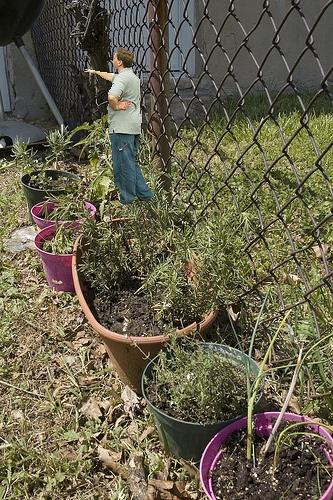tampered: (84, 48, 154, 205)
